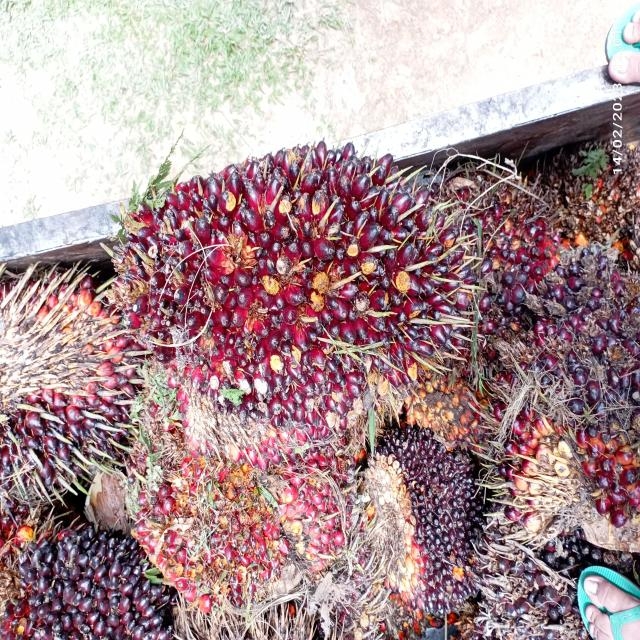fraksi 00: (503, 199, 640, 484), (365, 422, 479, 607), (14, 525, 164, 640)
fraksi 1: (120, 115, 482, 431)
fraksi 3: (115, 402, 361, 622)
